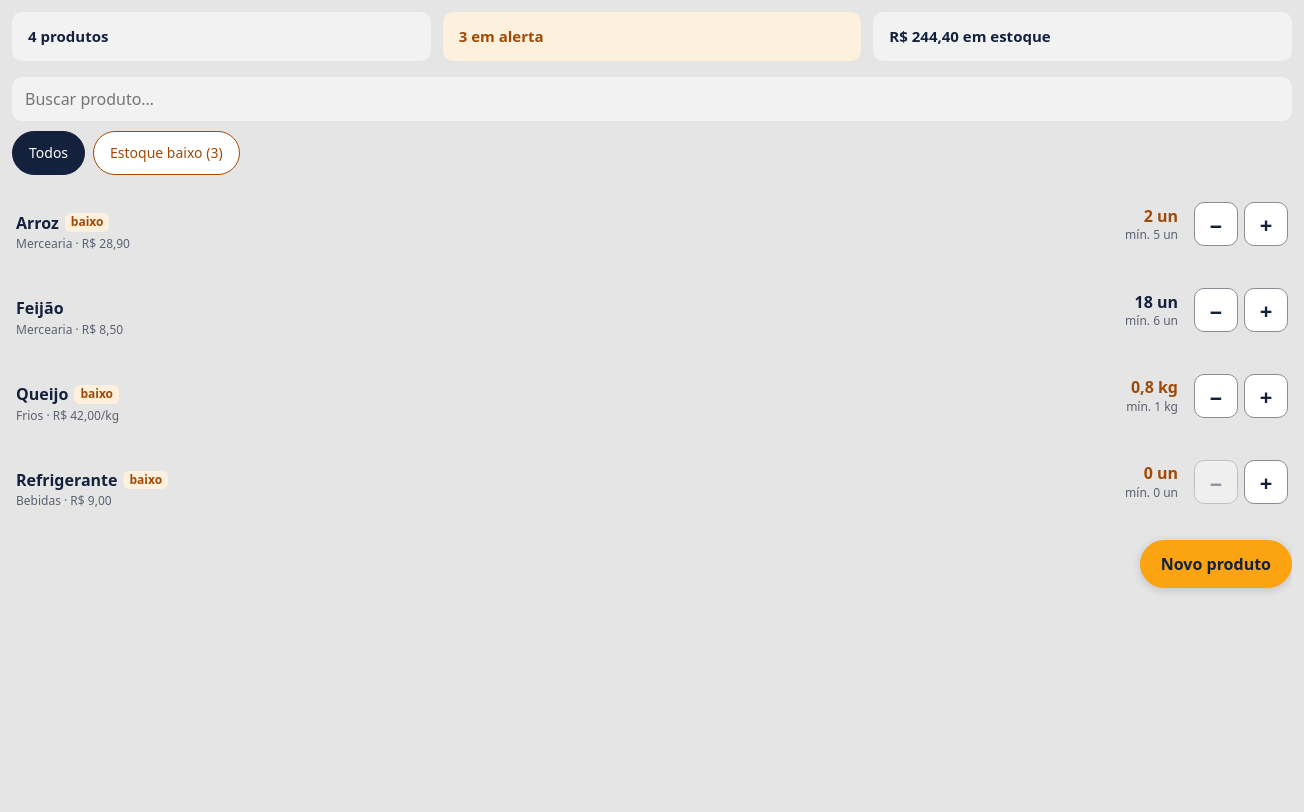
filtro Estoque baixo esconde o Feijão e marca aria-pressed
Click the button "Estoque baixo (3)": (166, 153) [93,131,240,175]
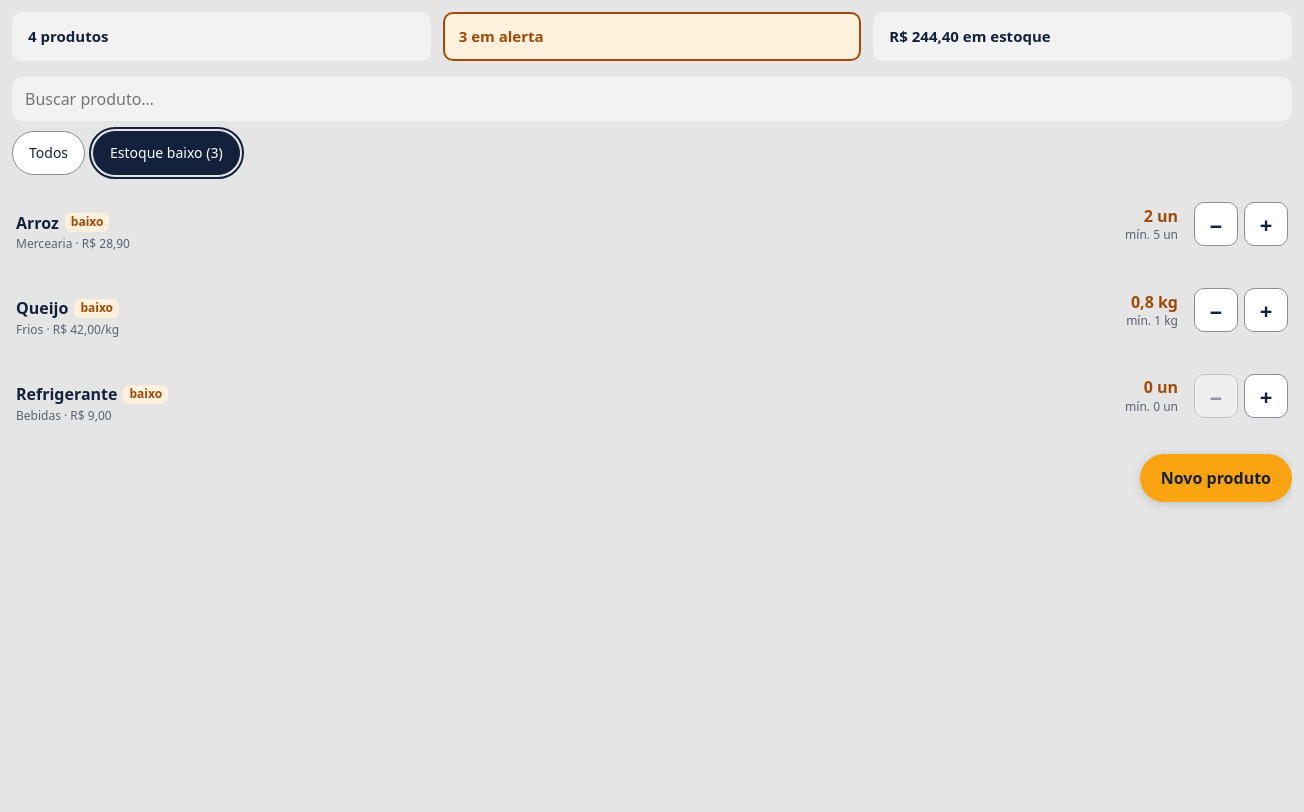
Now the button "Feijão" is gone
Click the button "Todos": (49, 153) [12,131,85,175]
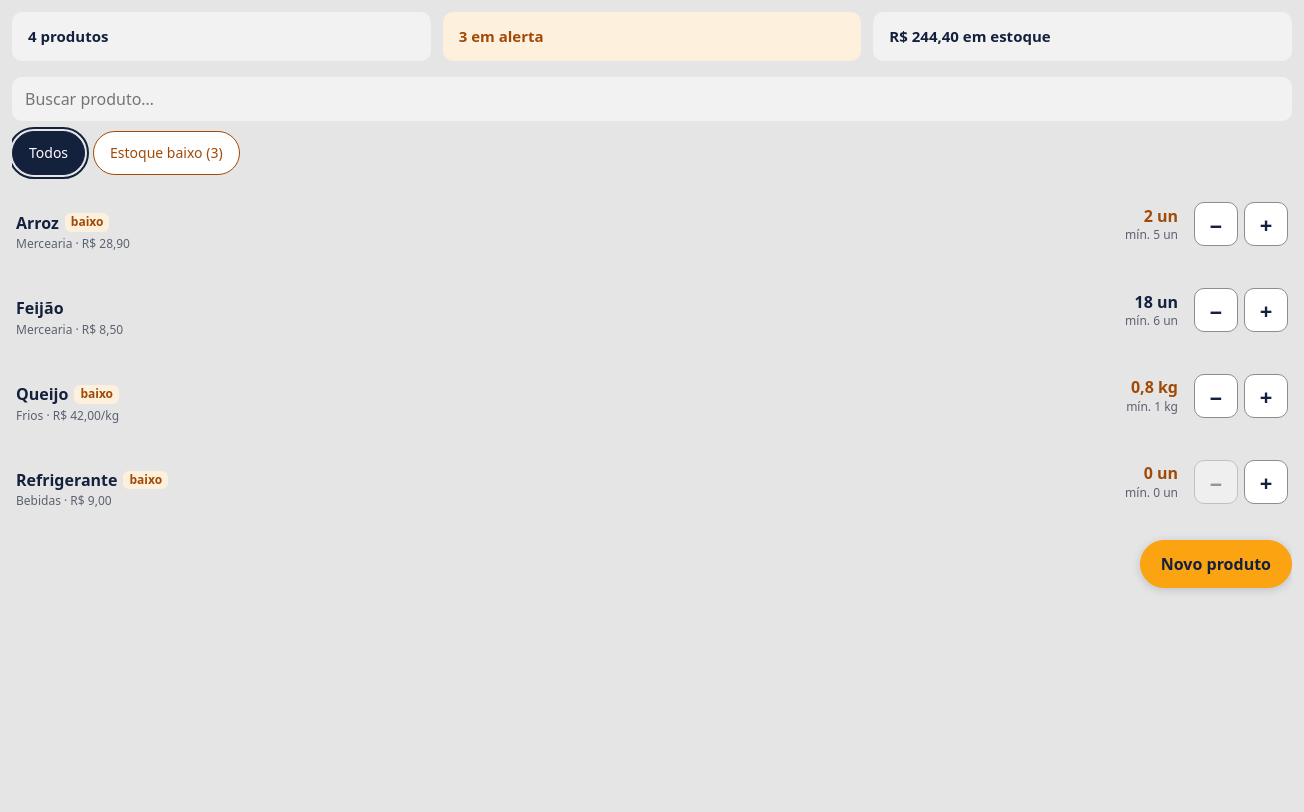
Now the button "Feijão" is shown, box [16,278,64,322]
